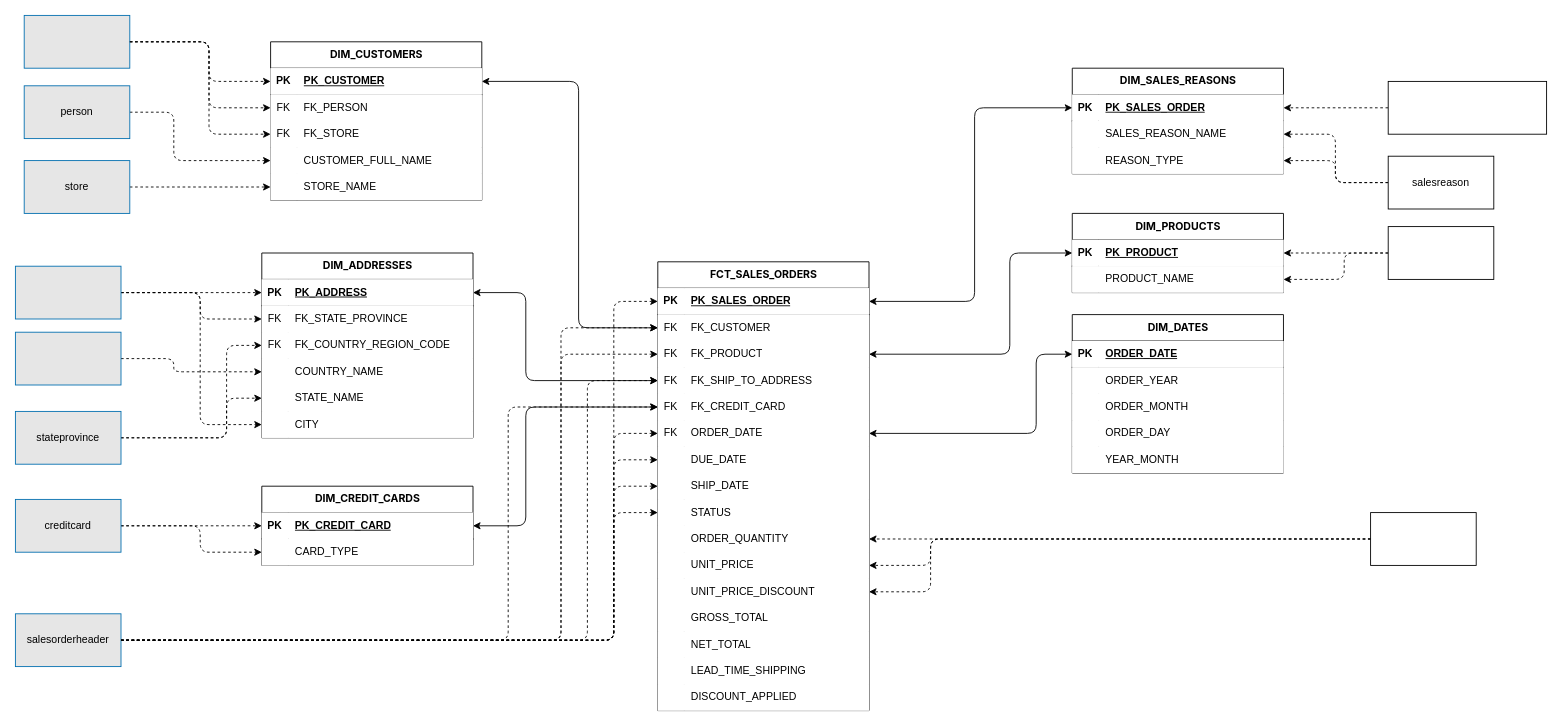
The diagram is 1562 pixels wide and 726 high, and some of its shapes have lost their labels. The shapes that lost their labels are listed below. From the top down, each one's centre as x and y in pixels, then its label:
point 76,41: customer
point 1467,107: salesorderheadersalesreason
point 1440,252: product
point 68,292: address
point 68,358: countryregion
point 1423,538: salesorderdetail
